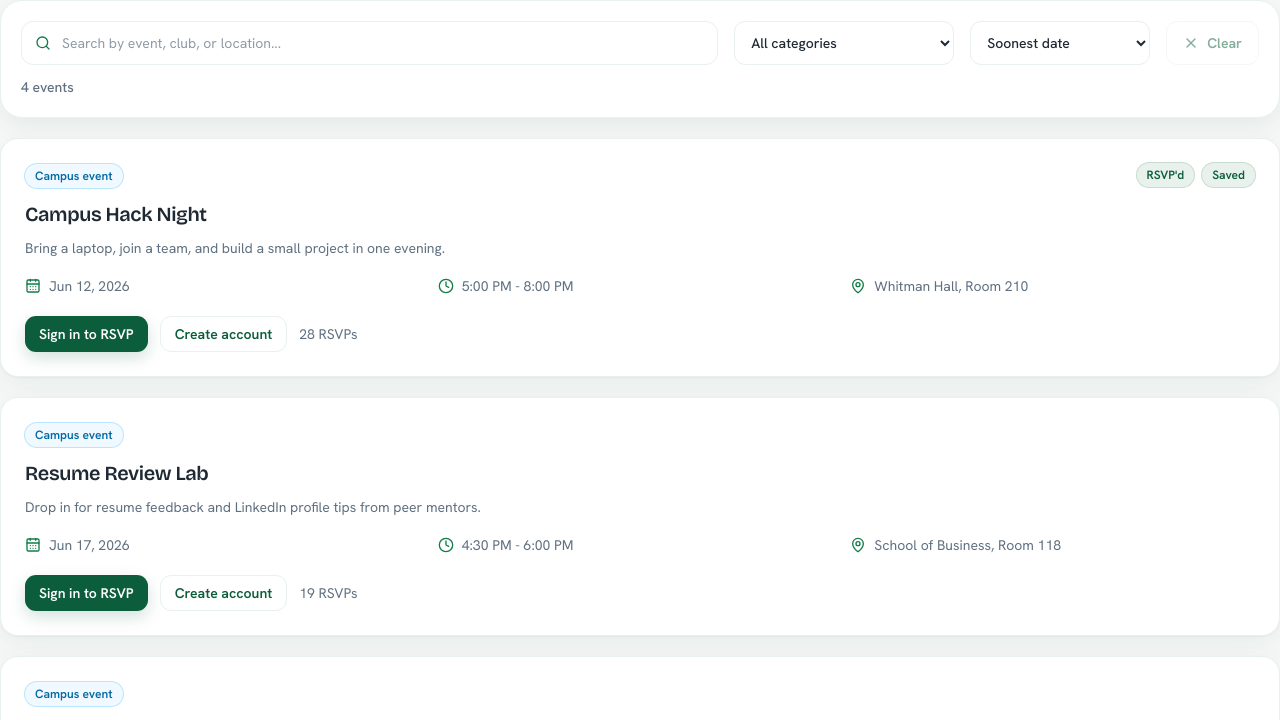
Test: public event browser filters › filters events by club category and clears the selection
Select "Business" in the dropdown named "Filter by club category": (844, 43) [734,21,954,65]
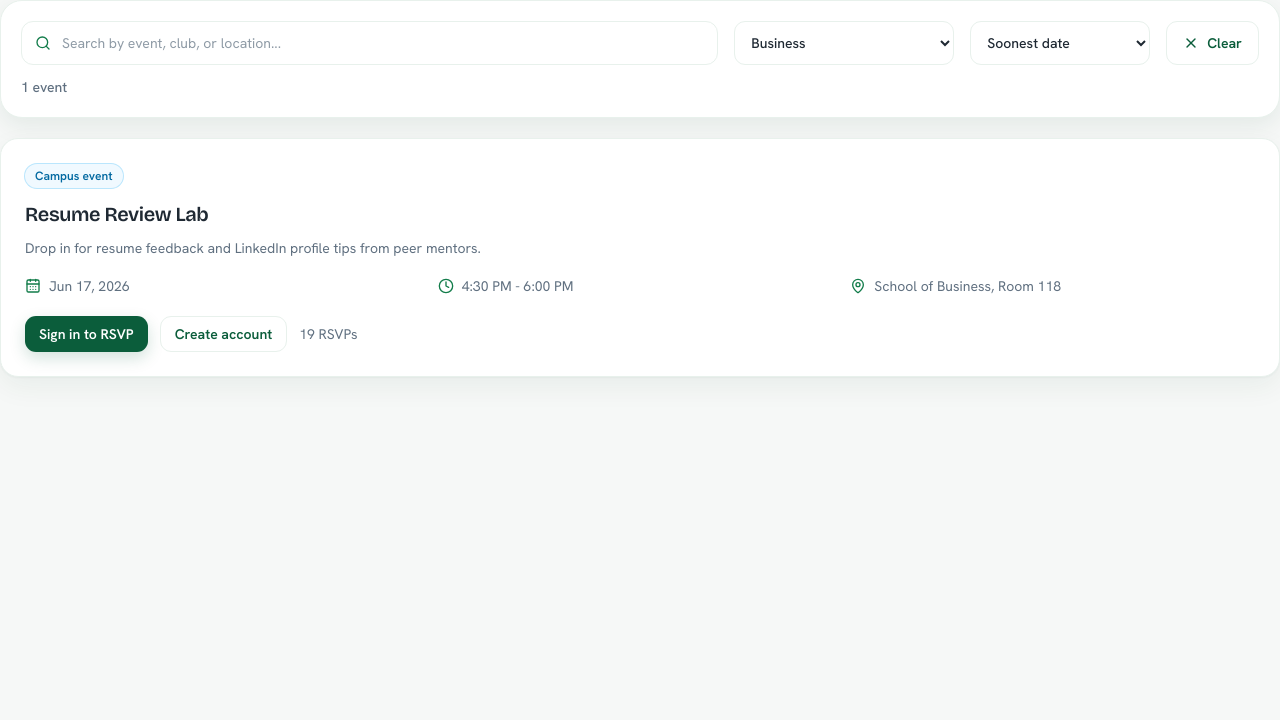
expect the heading "Resume Review Lab" is shown: met, box [25,202,208,226]
expect the heading "Campus Hack Night" is gone: met
Click the button "Clear": (1213, 43) [1166,21,1259,65]
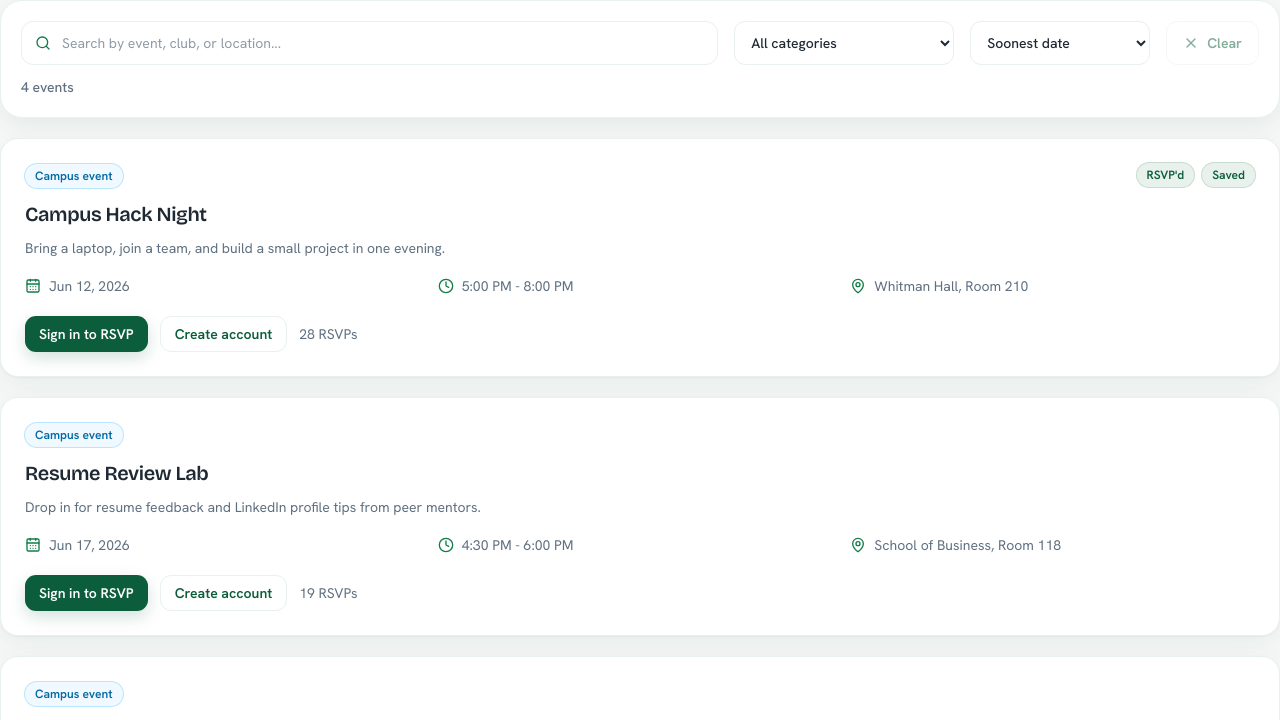
expect the heading "Campus Hack Night" is shown: met, box [25,202,207,226]
